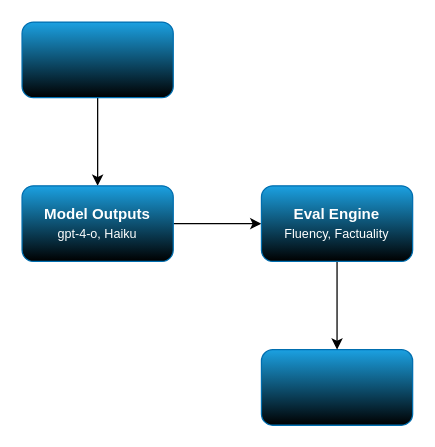
The diagram is 435 pixels wide and 447 high, and some of its shapes have lost their labels. Here are the shapes that lost their labels. From the top down, the centre of each, then its label:
At [97,59]: "User Input Text Prompt".
At [336,386]: "Visualisation Bar Chart, Tables".
